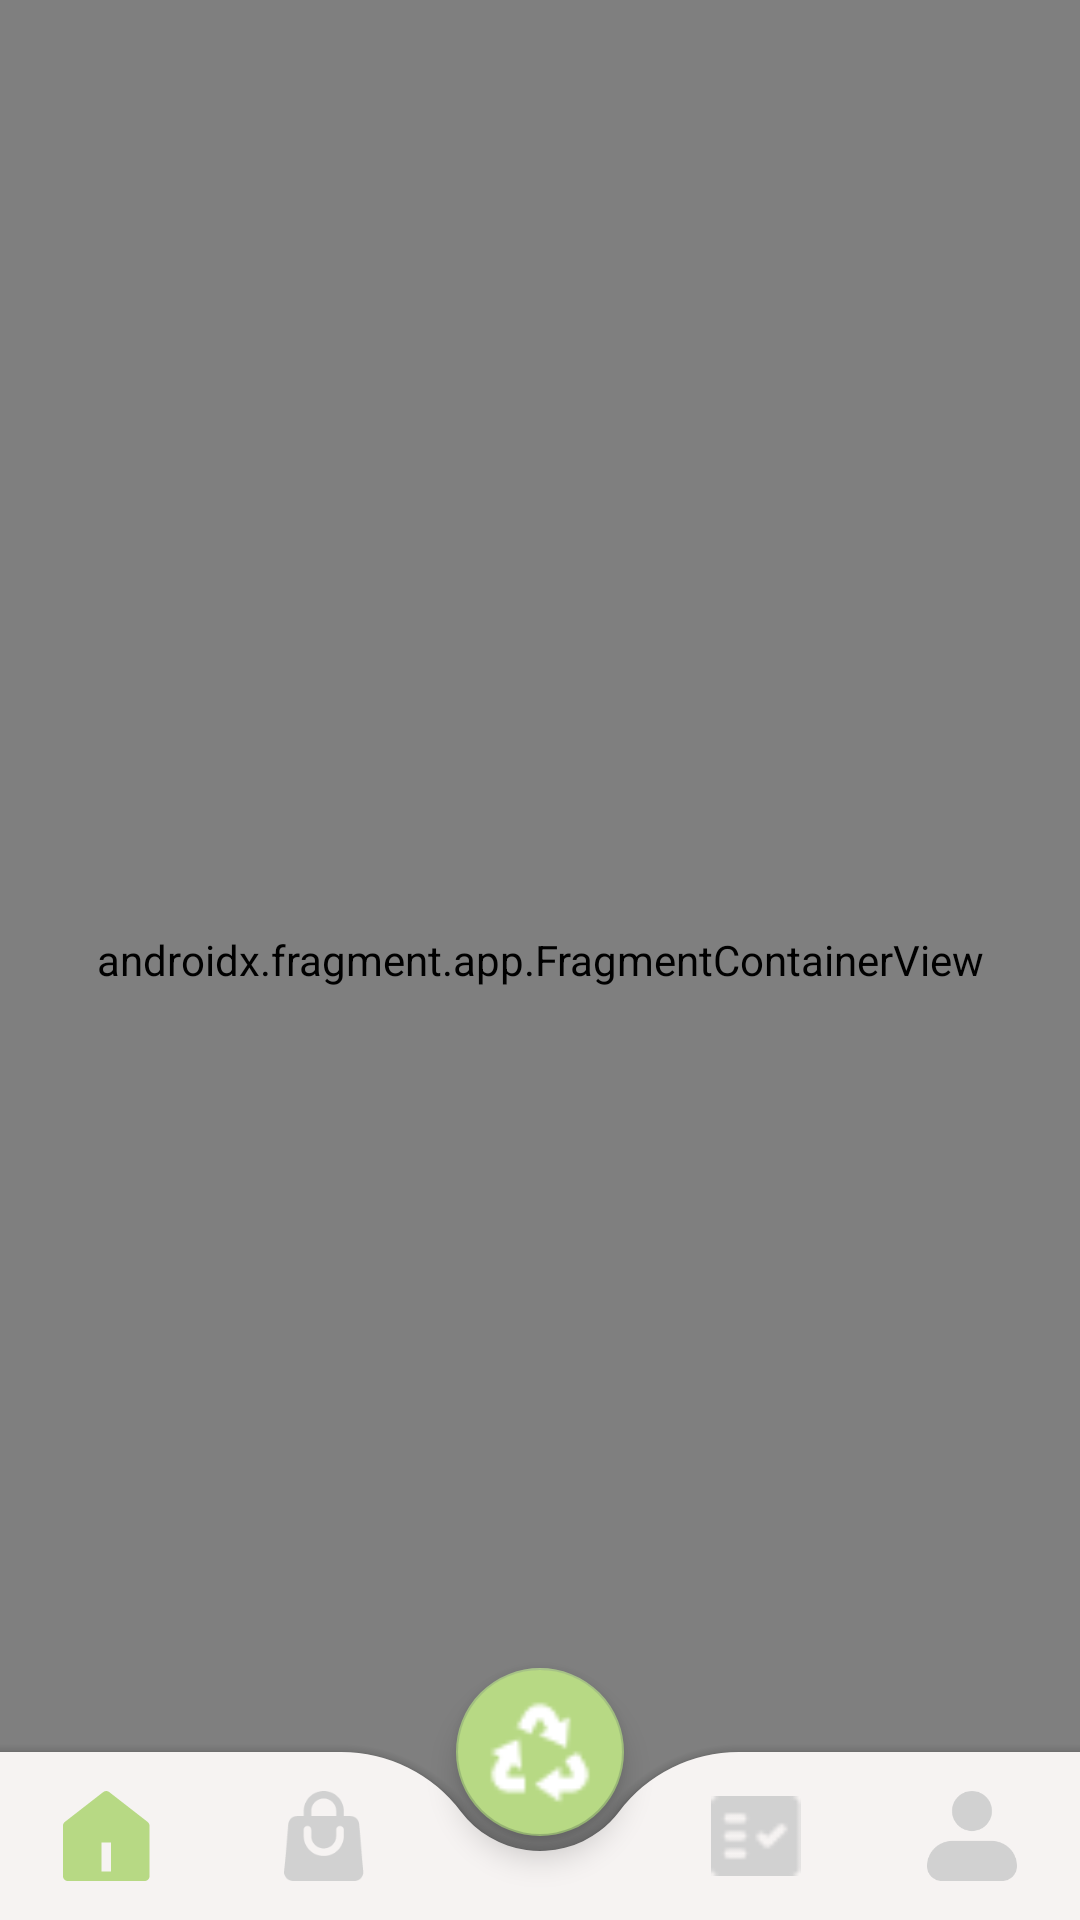

Icons on this 1080×1920 Android screen, each with its box as (x1, y1, x2, y2):
tacycle: (456, 1668, 624, 1836)
